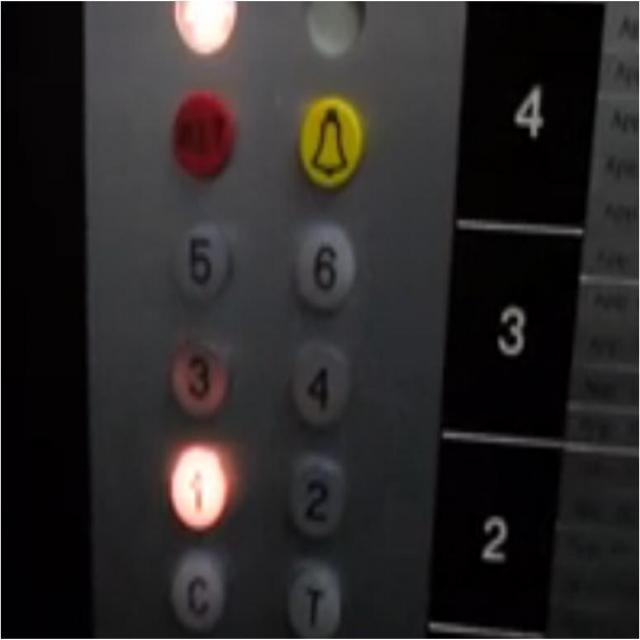1: (169, 444, 225, 526)
2: (288, 457, 345, 538)
3: (168, 337, 230, 417)
4: (290, 337, 349, 426)
5: (171, 221, 230, 302)
6: (293, 224, 354, 310)
C: (169, 552, 224, 630)
T: (286, 565, 340, 639)
alarm: (297, 96, 361, 188)
blur: (170, 90, 236, 179)
